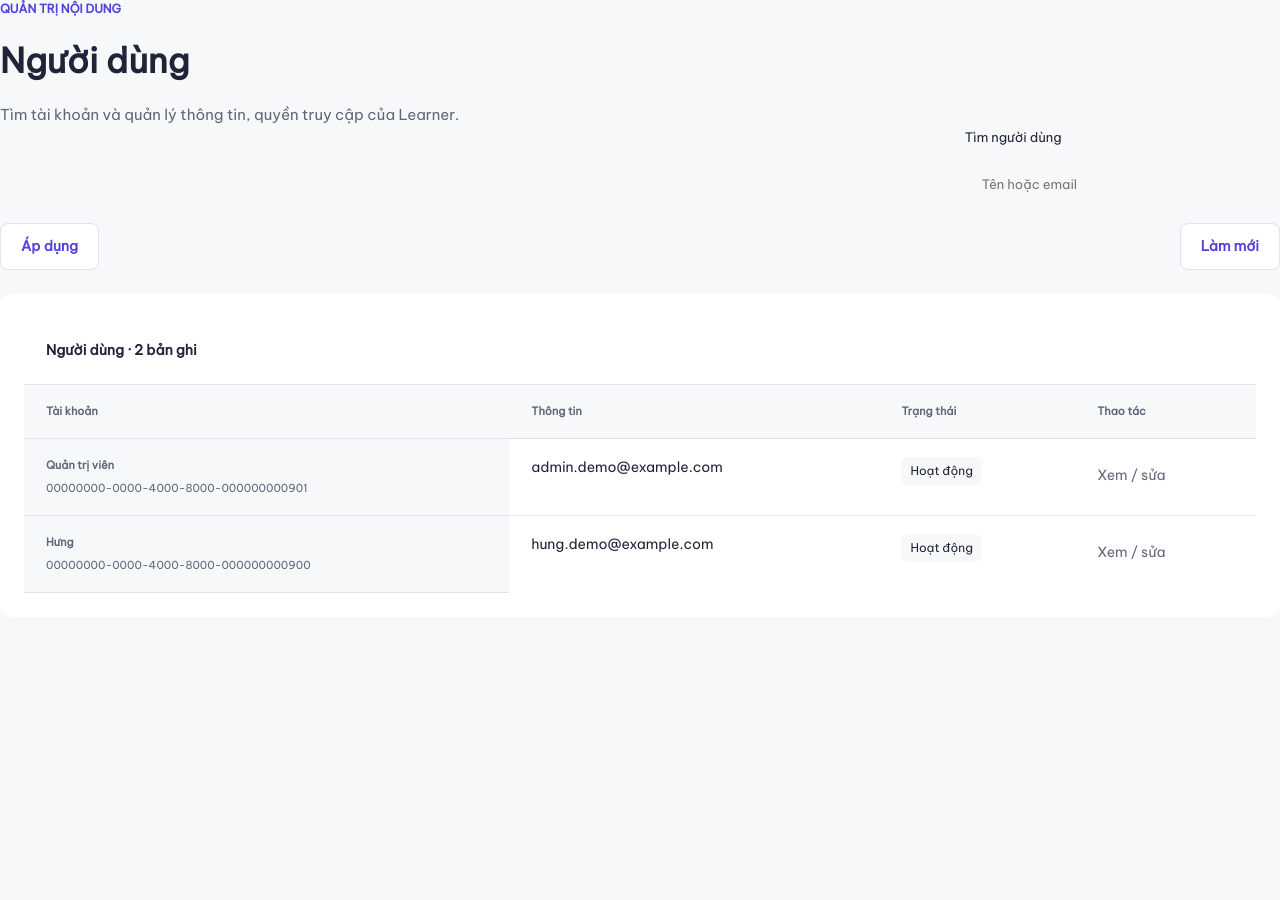
Test: reads detail and patches only fullName/status, keeping seeded Admin readonly
Click the button with aria-label "Xem / sửa Hưng": (1131, 552) [1097,534,1166,571]
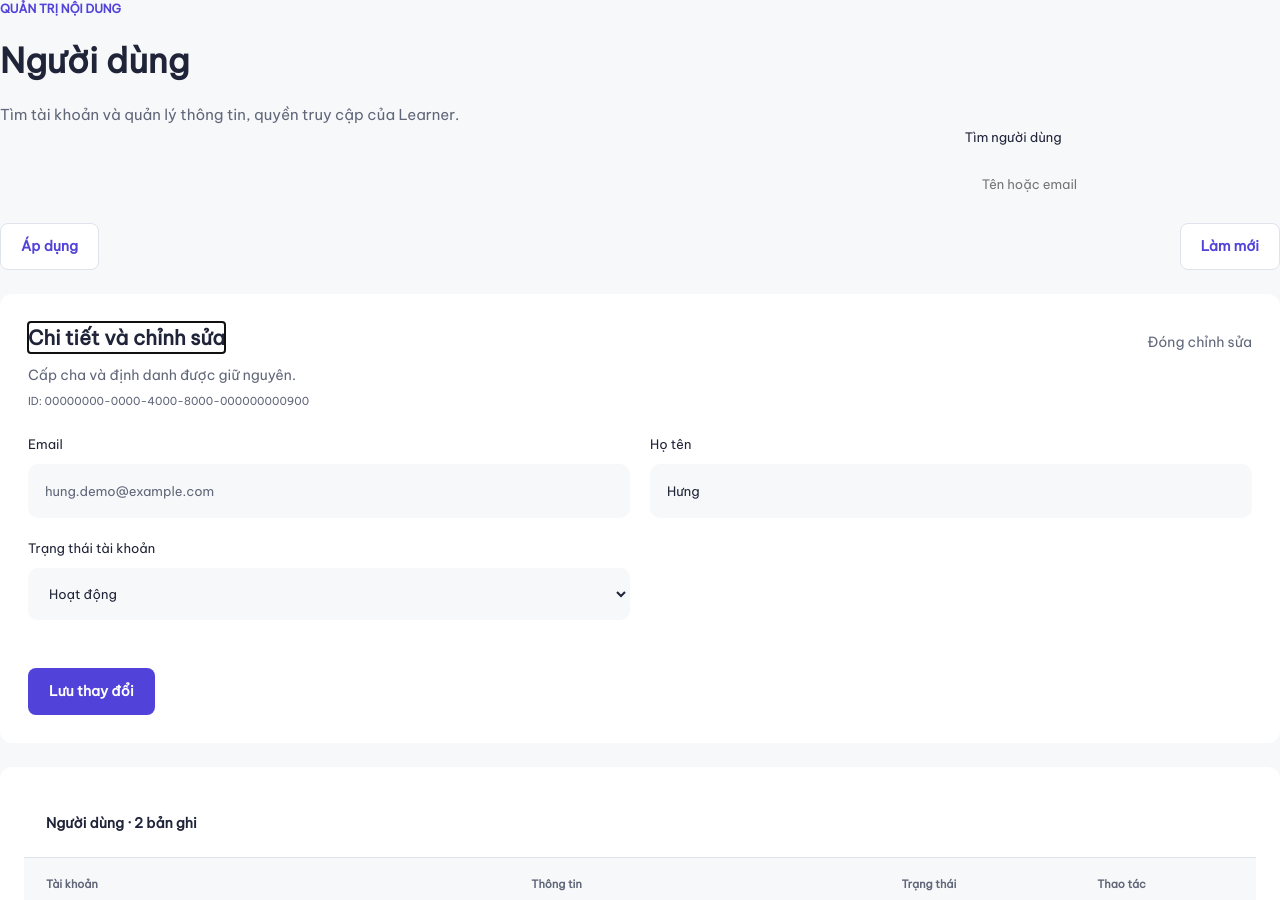
Replace the text in the field labelled "Họ tên" with "Tên mới": (951, 491) [650,464,1252,518]
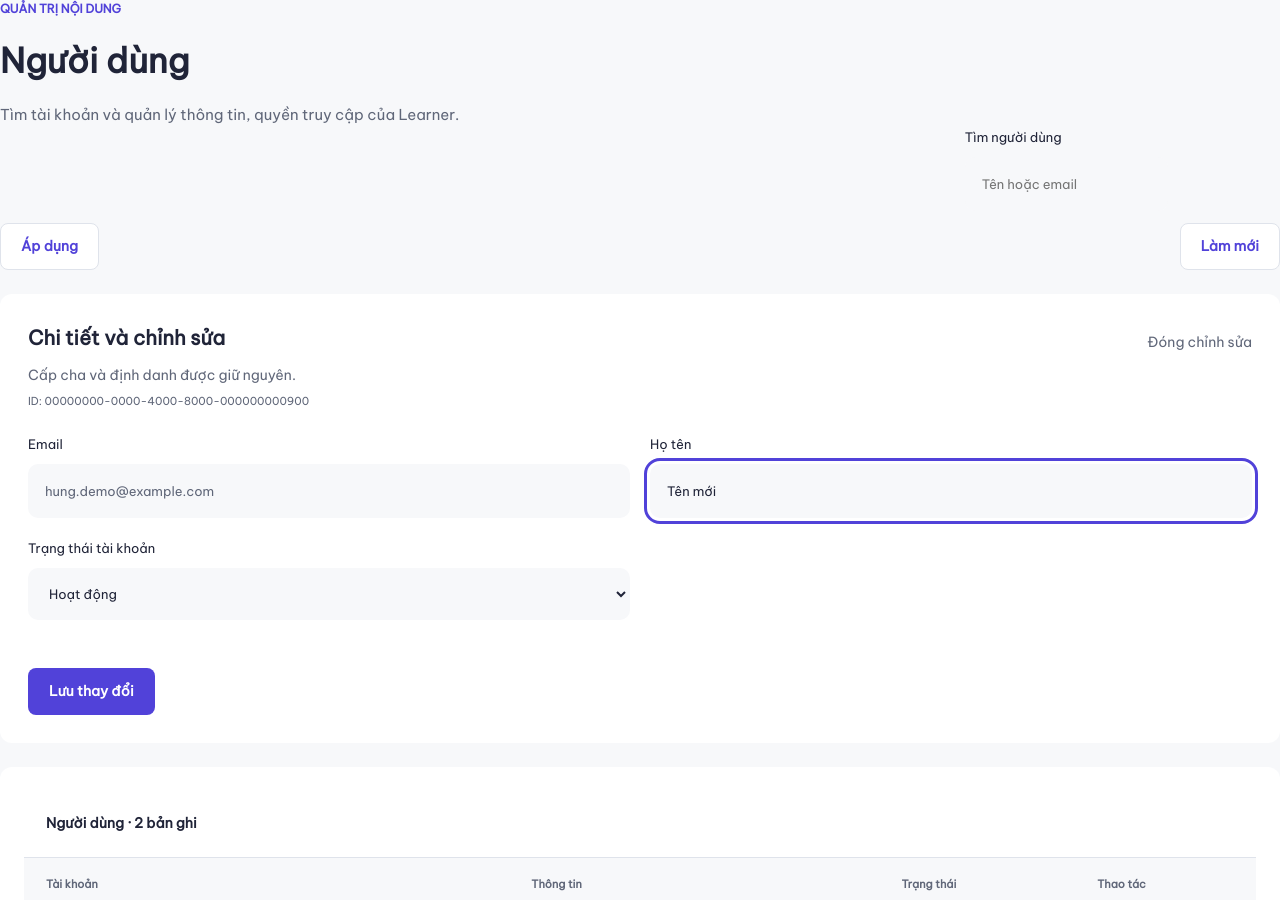
Select "Đã chặn" in the dropdown labelled "Trạng thái tài khoản": (329, 594) [28,568,630,620]
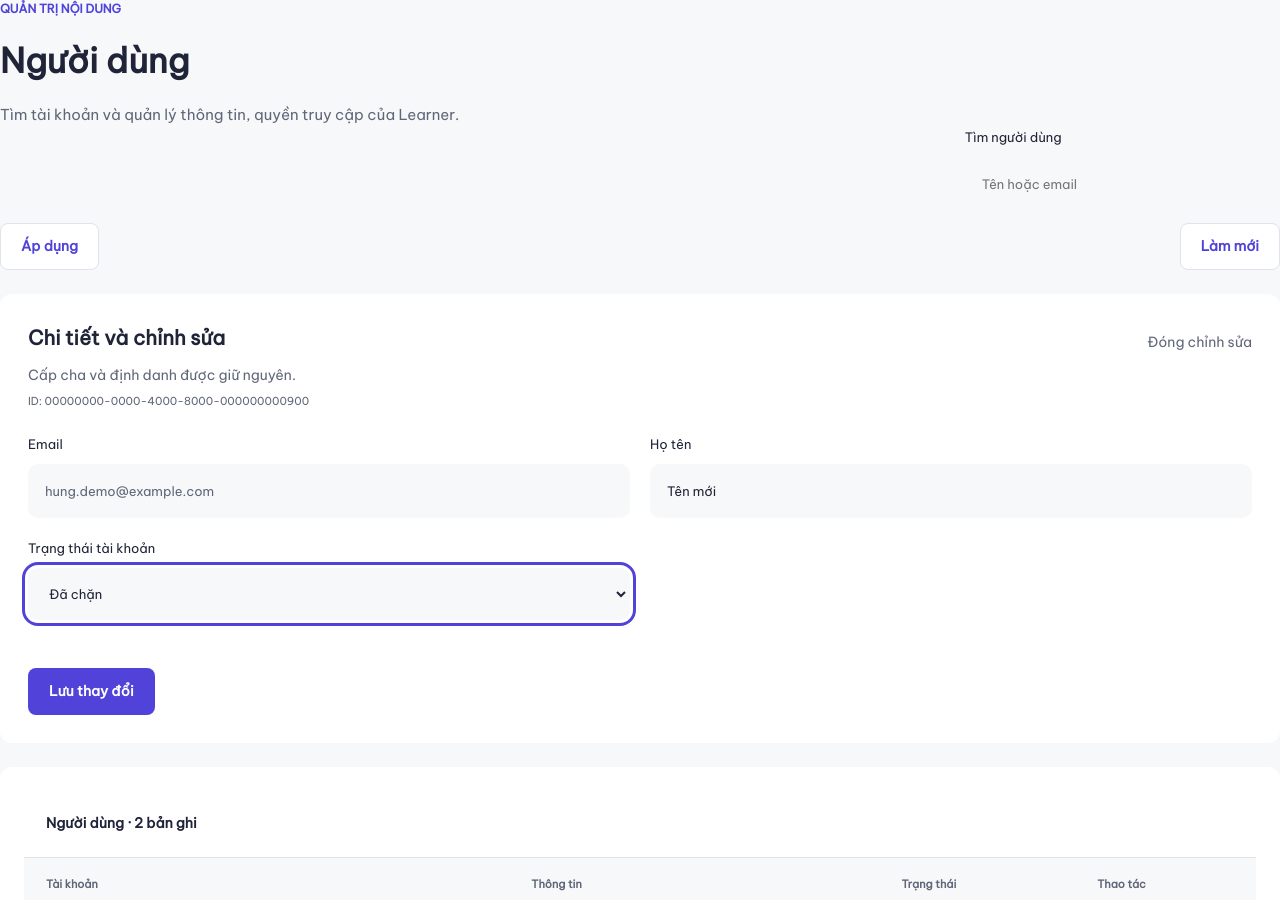
Click the button "Lưu thay đổi": (91, 692) [28,668,155,715]
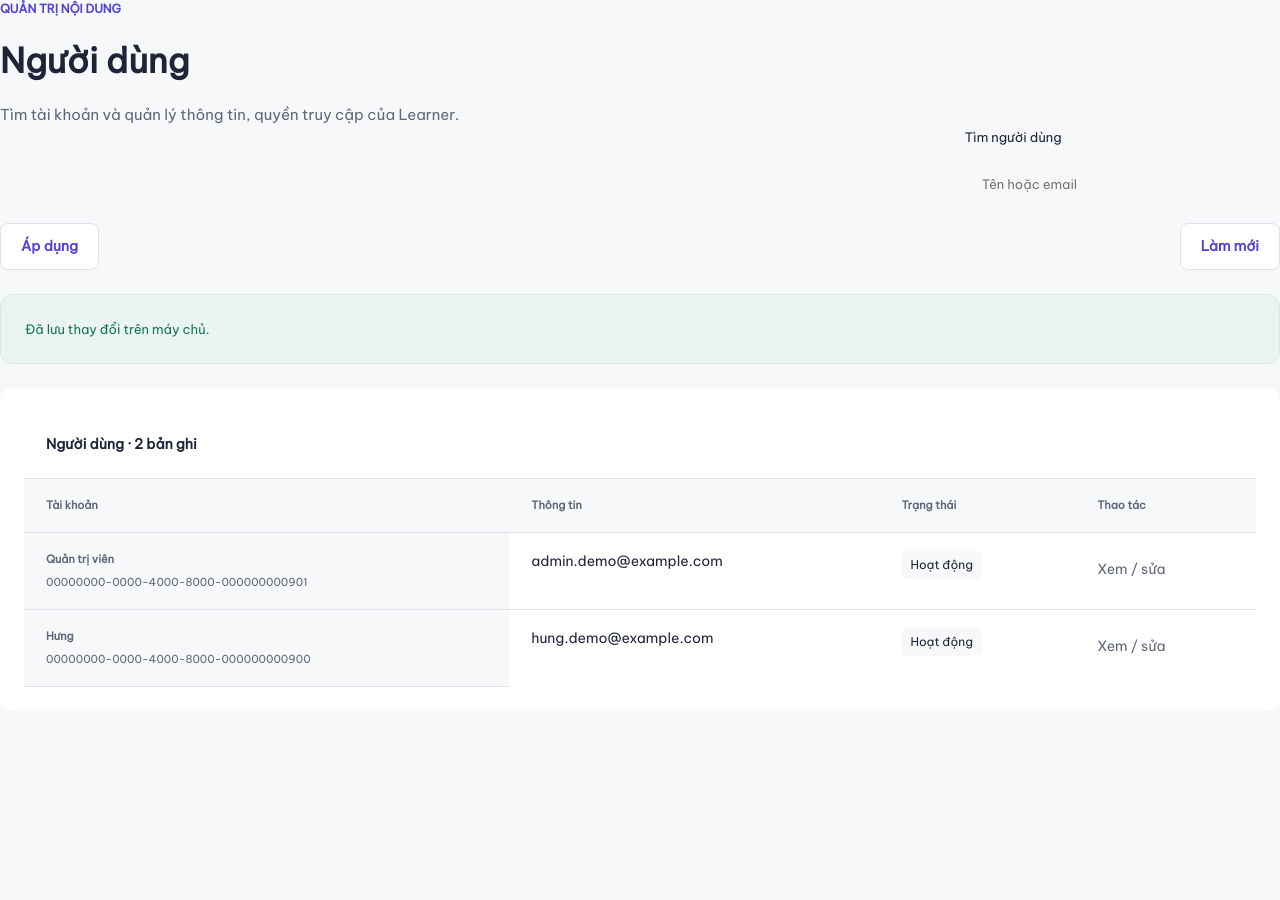
Expected: the text "Đã lưu thay đổi trên máy chủ." is shown, [0,294,1279,364]
Click the button with aria-label "Xem / sửa Quản trị viên": (1131, 570) [1097,551,1166,588]
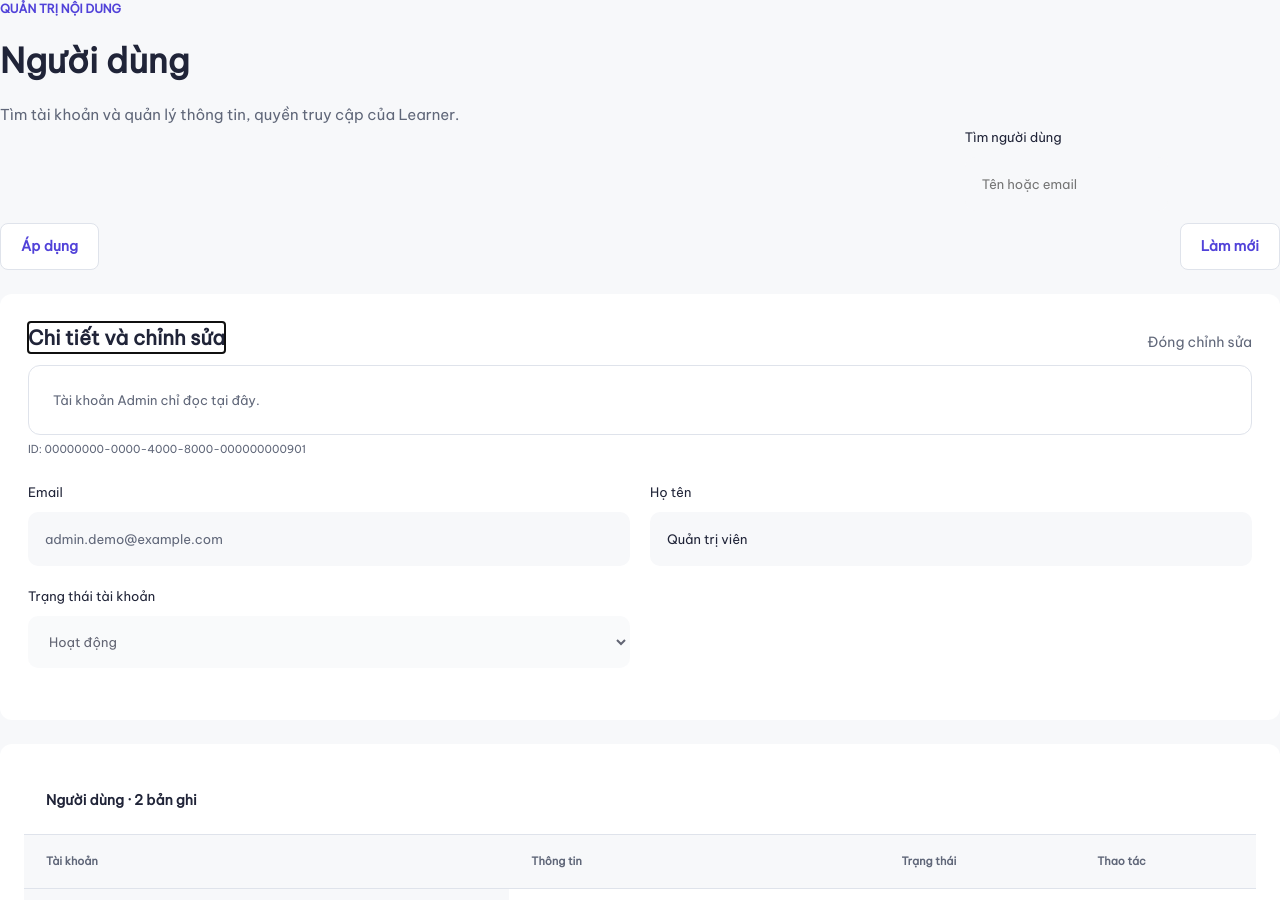
Expected: the text "Tài khoản Admin chỉ đọc tại đây." is shown, [28,365,1252,435]
Expected: the message "lưu thay đổi" is gone
